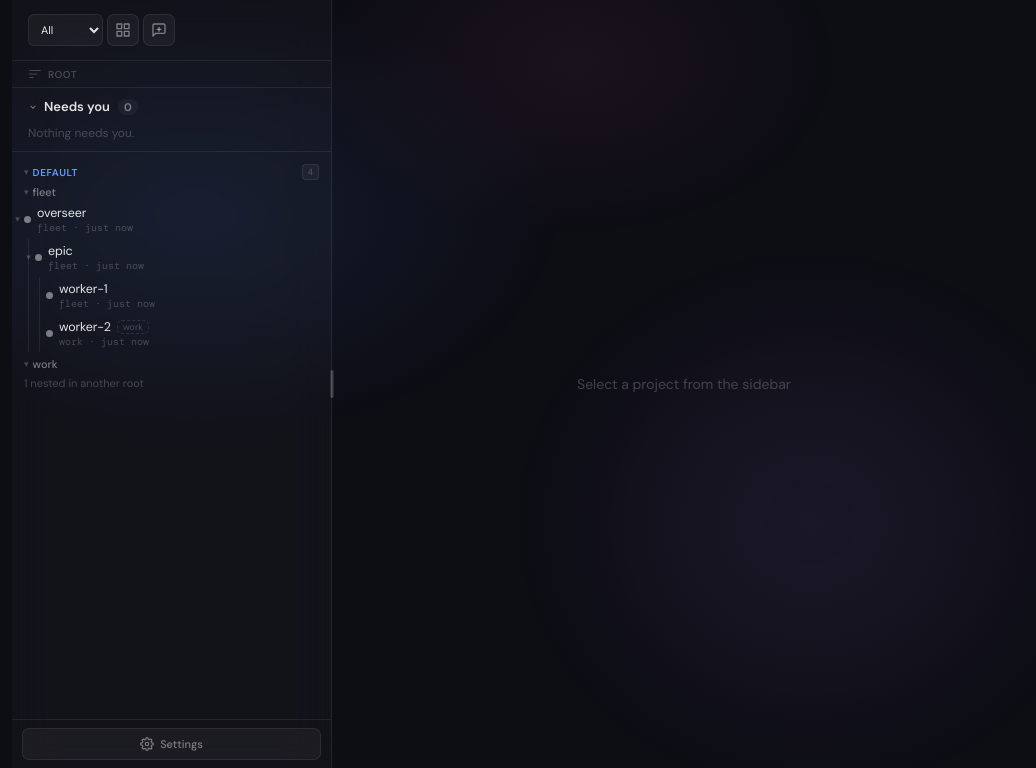
Scenario: on a phone: false › rolls a grandchild that needs the user up to its collapsed grandparent
This screenshot has width=1036, height=768.
Click the button "▾" next to "overseer": (18, 220) [12,201,23,238]
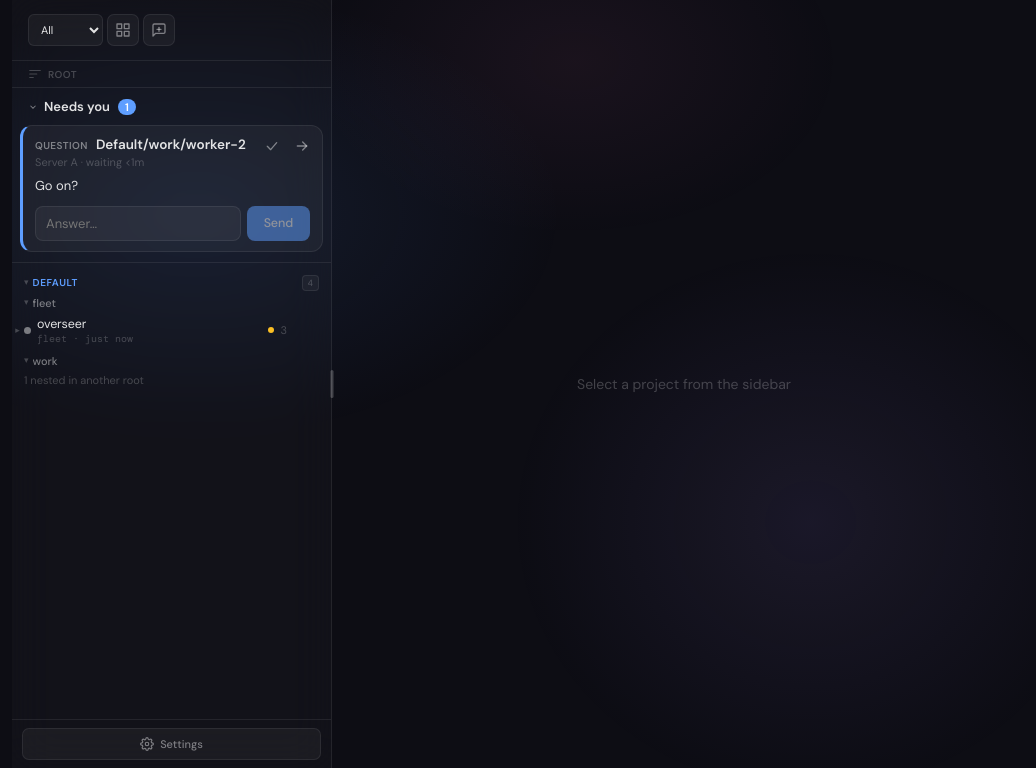
Expected: the element named "needs you" is shown, [268,327,274,333]
